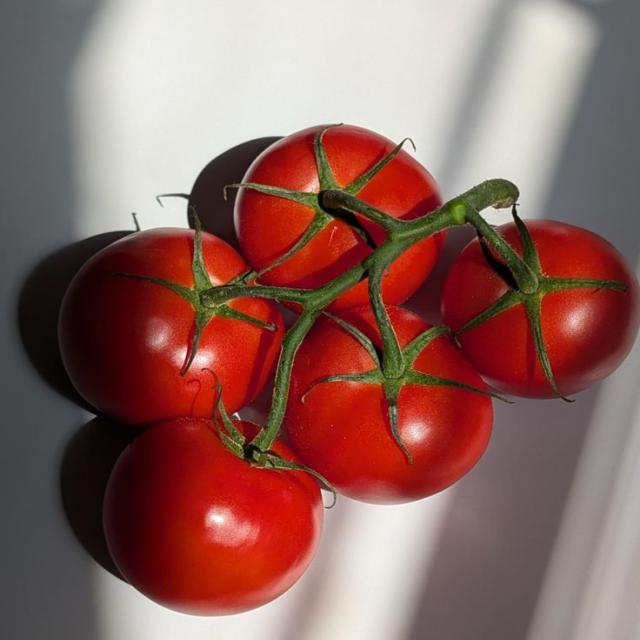tomato: (60, 229, 283, 425), (104, 419, 323, 615), (285, 317, 493, 503), (442, 221, 639, 397), (234, 125, 441, 288)
